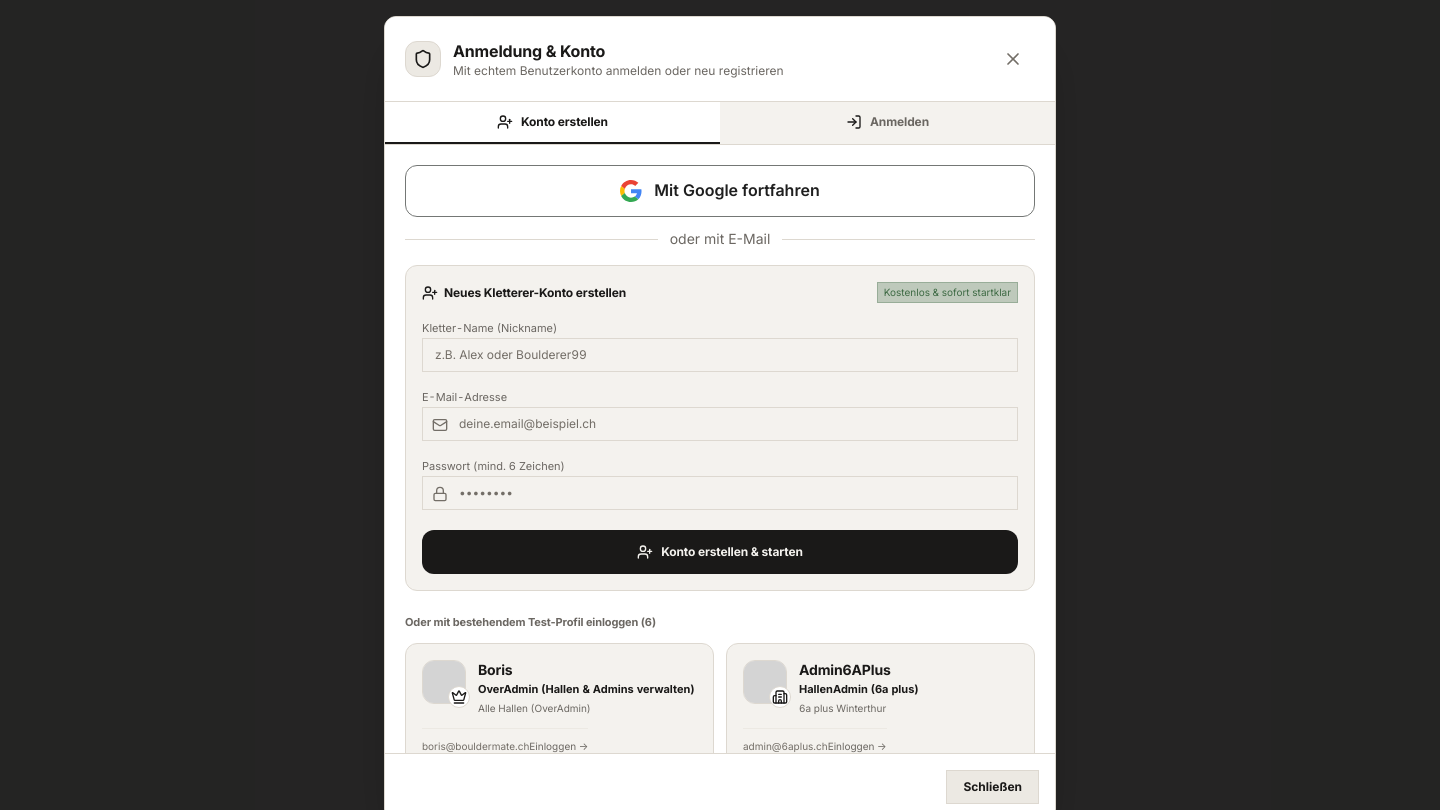
Test: SPEC-024 AC-1: Knöpfe › Login-Fenster zeigt den Fehler, wenn die Weiterleitung scheitert
The image size is (1440, 810).
Click the button with test id "btn-google-login" at point(720, 191), box x1=405 y1=165 x2=1035 y2=217
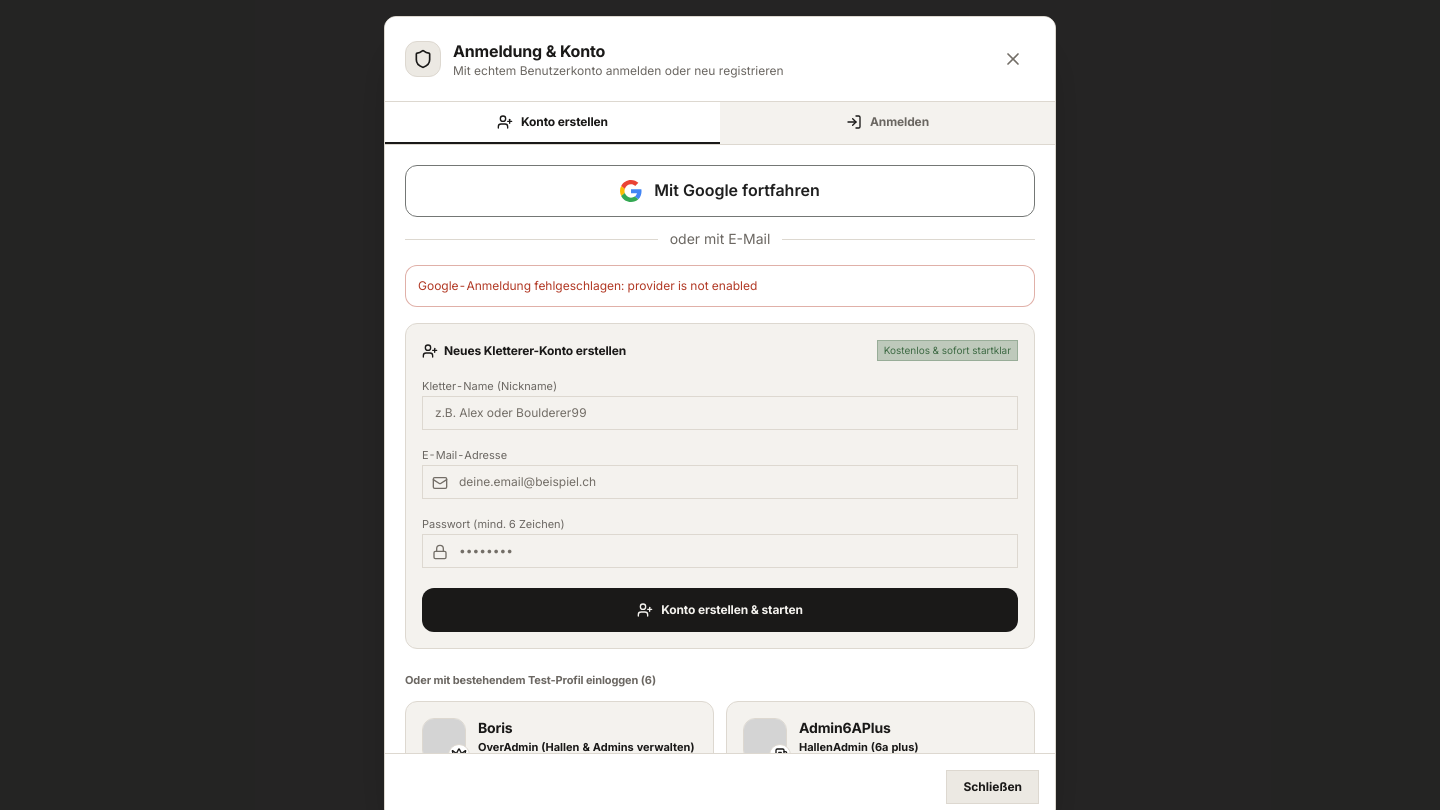
Now the text "Google-Anmeldung fehlgeschlagen: provider is not enabled" is shown, box x1=418 y1=278 x2=757 y2=294
